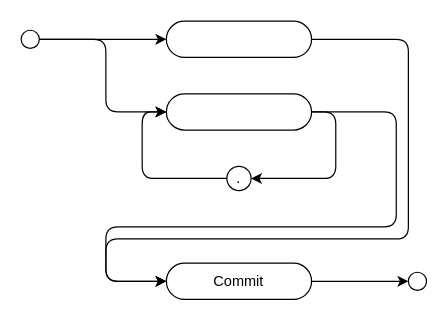
Some shapes in this 448 by 321 pixel diagram are drawn without their labels. The centre of each missing label's shape, as x and y in pixels:
Perform: the point at 238,111
PerformBlock: the point at 238,38
